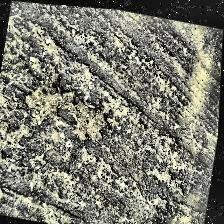pothole: (15, 64, 130, 158)
